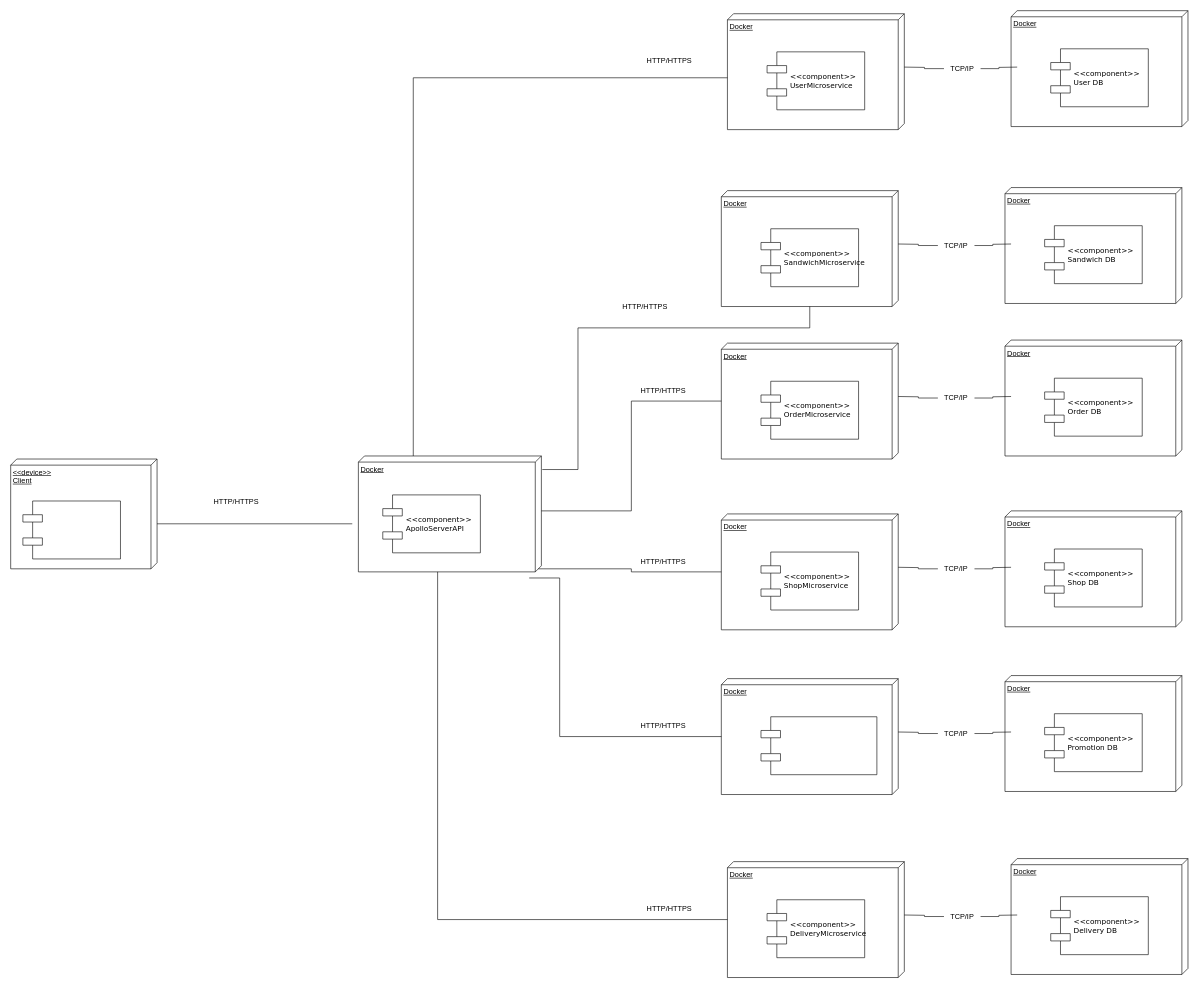
Image size: 1199x988. Some labels were removed from this diagram. Here are the shapes that lost their labels. From the top down, the centre of each, then its label:
At (x=71, y=529): "<<device>> Web Browser".
At (x=818, y=745): "<<component>> PromotionMicroservice".
